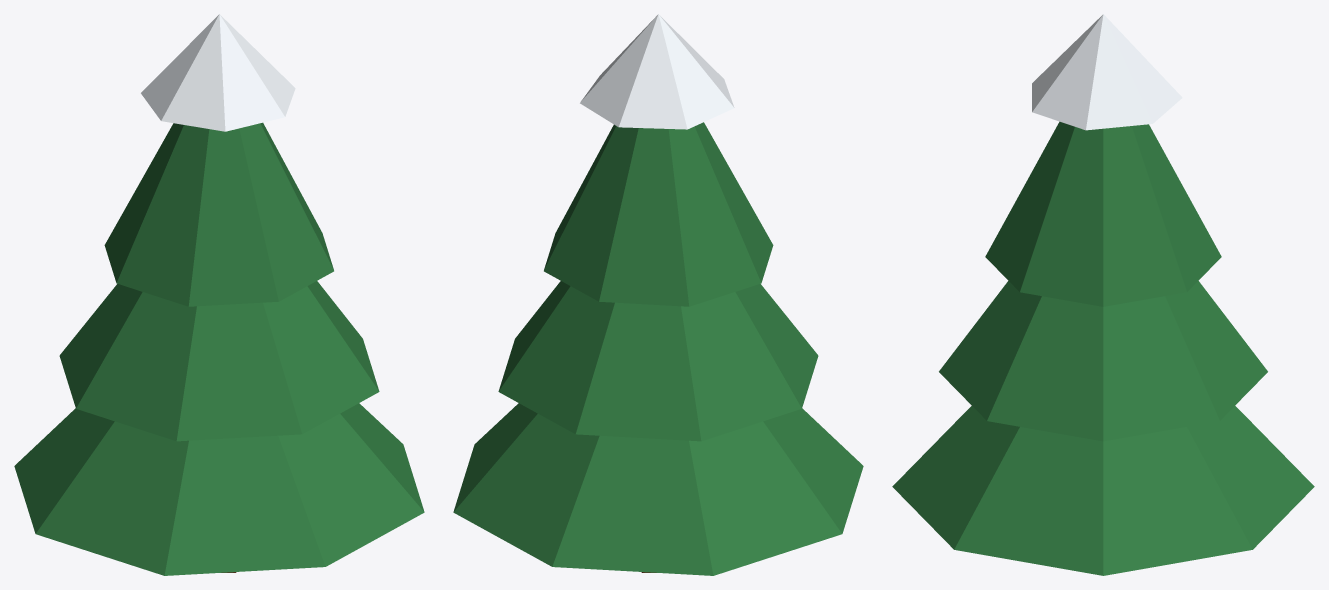
File: pine_small.glb
3 views of the same model, side by side, from view 1: azimuth 30°, elevation 25°; view 2: azimuth 150°, elevation 25°; view 3: azimuth 270°, elevation 25° (orthographic).
Visible parts, largest first — view 1: pine_small; view 2: pine_small; view 3: pine_small.
Part boxes in pixels (left/top/right/bottom): pine_small: left=14, top=14, right=424, bottom=575; pine_small: left=453, top=14, right=863, bottom=575; pine_small: left=892, top=14, right=1314, bottom=575.
Size of the model in its own units: 1.6 by 2.27 by 1.6.
